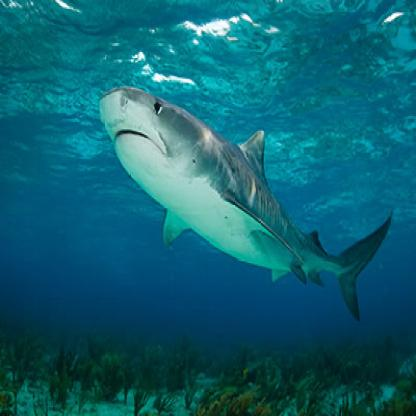Shark -Selachimorpha-: (91, 69, 398, 328)
